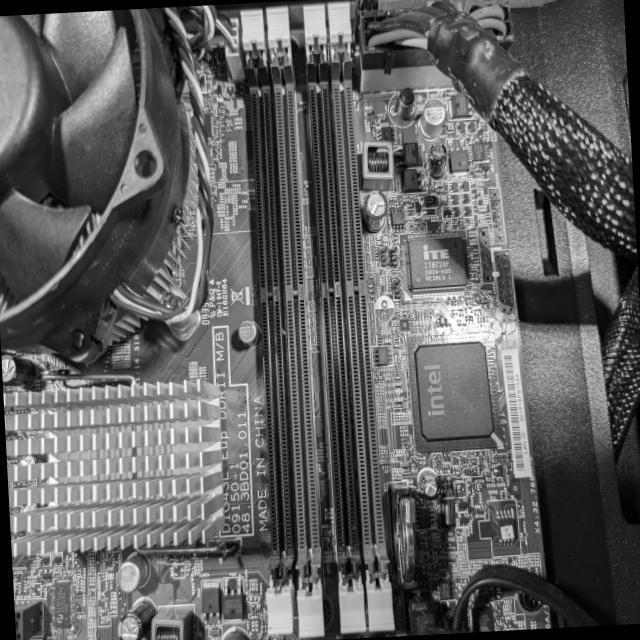CPU_Fan: (0, 6, 207, 360)
Mainboard: (0, 21, 552, 640)
